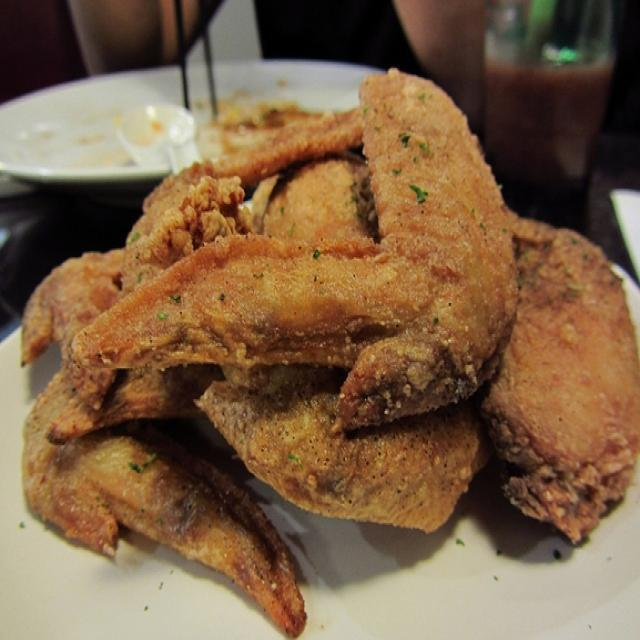Deep fried chicken wing: (40, 71, 629, 575)
